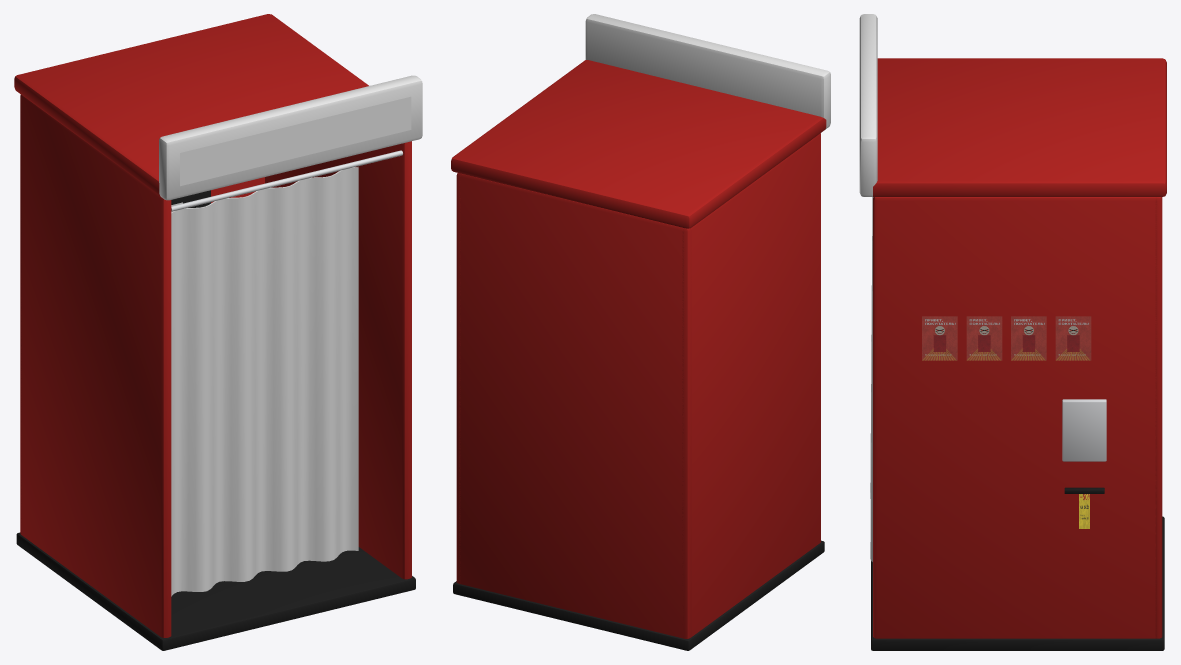
Rendered from PhotoBooth.fbx.
3 views of the same model, side by side, from view 1: azimuth 30°, elevation 25°; view 2: azimuth 150°, elevation 25°; view 3: azimuth 270°, elevation 25° (orthographic). The views are drawn at different scales.
Visible parts, largest first — view 1: PhotoBooth; view 2: PhotoBooth; view 3: PhotoBooth.
Part boxes in pixels (x1,y1,x2,y2): PhotoBooth: (14, 14, 422, 650); PhotoBooth: (451, 14, 830, 650); PhotoBooth: (859, 14, 1166, 650).
Size of the model in its own units: 1.4 by 2.55 by 1.38.
